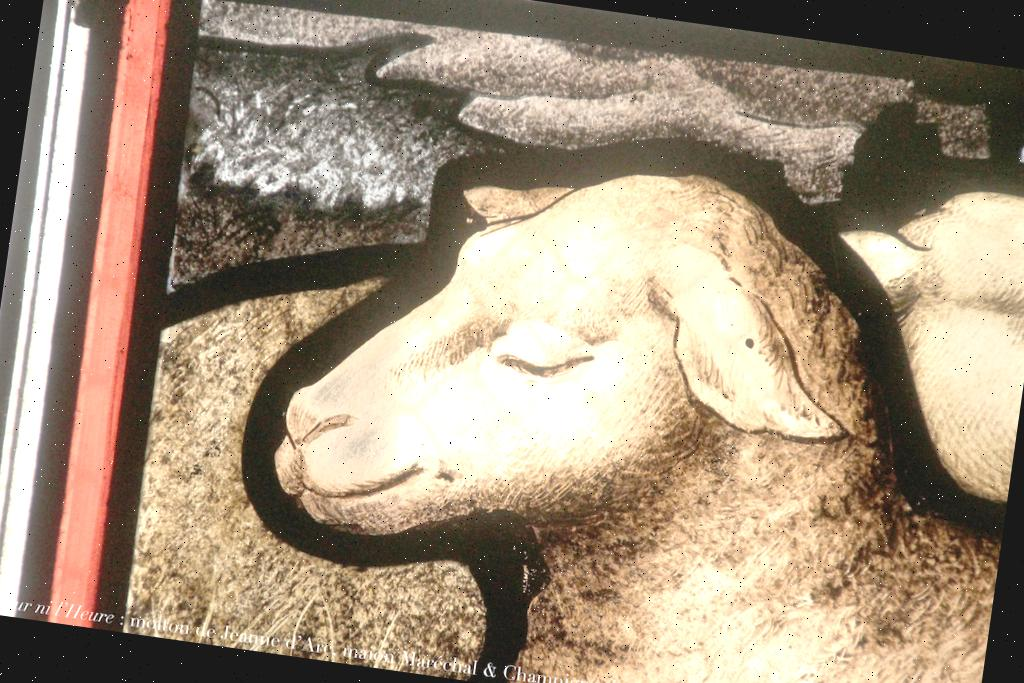Sheep: (245, 121, 1024, 683)
